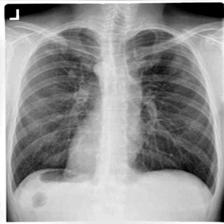tuberculosis: (8, 22, 220, 202)
